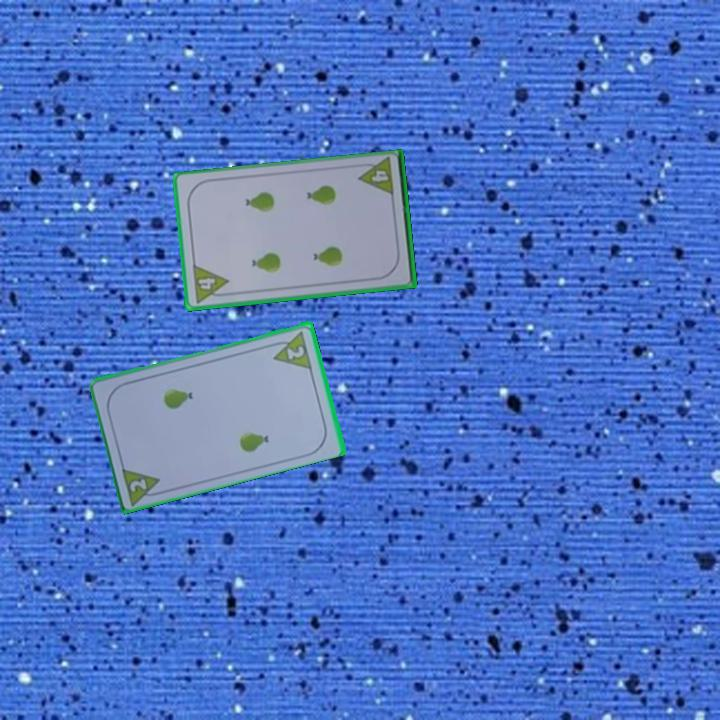2p: (118, 463, 167, 507), (267, 327, 315, 371)
4p: (189, 261, 232, 306), (354, 155, 397, 199)
